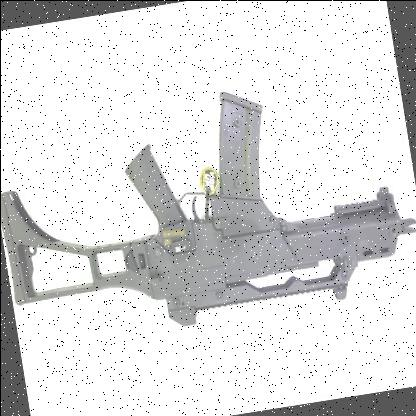rifle: (0, 76, 416, 394)
